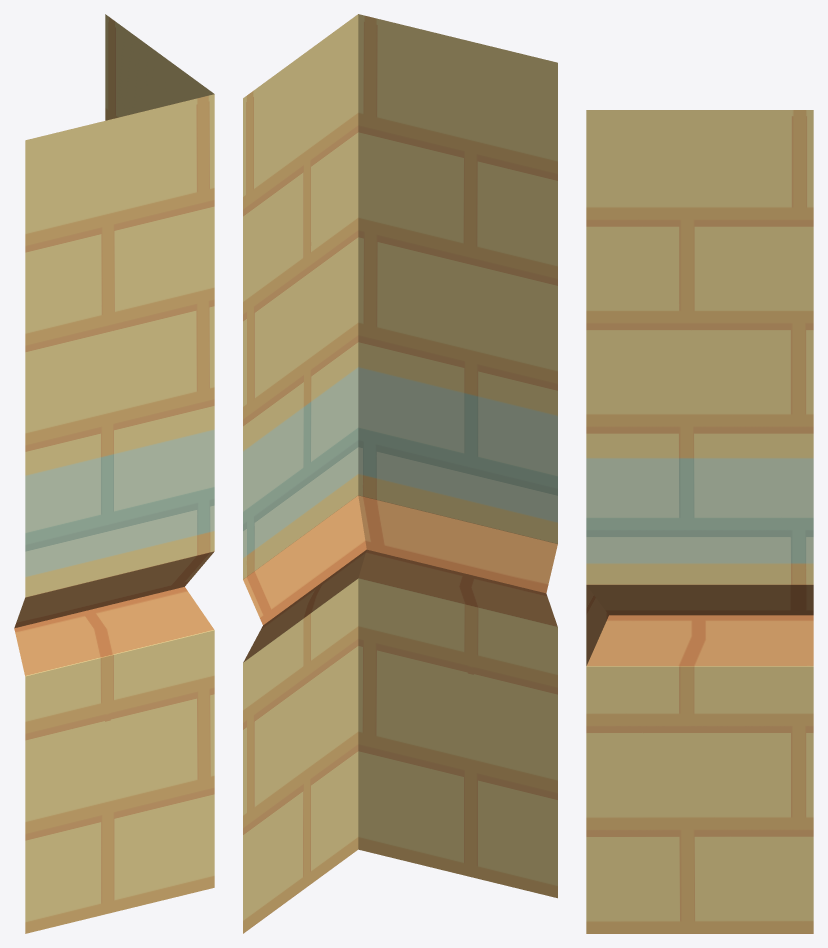
File: corneralt2.fbx
The picture shows the model from 3 angles, left to right: view 1: azimuth 30°, elevation 25°; view 2: azimuth 150°, elevation 25°; view 3: azimuth 270°, elevation 25°; orthographic projection. The views are drawn at different scales.
Parts seen in each view (by area): view 1: Cube.005; view 2: Cube.005; view 3: Cube.005.
Boxes of the visible parts, bbox=[...] form: Cube.005: bbox=[14, 14, 214, 933]; Cube.005: bbox=[243, 14, 557, 933]; Cube.005: bbox=[586, 110, 813, 933].
Size of the model in its own units: 100 by 400 by 100.
